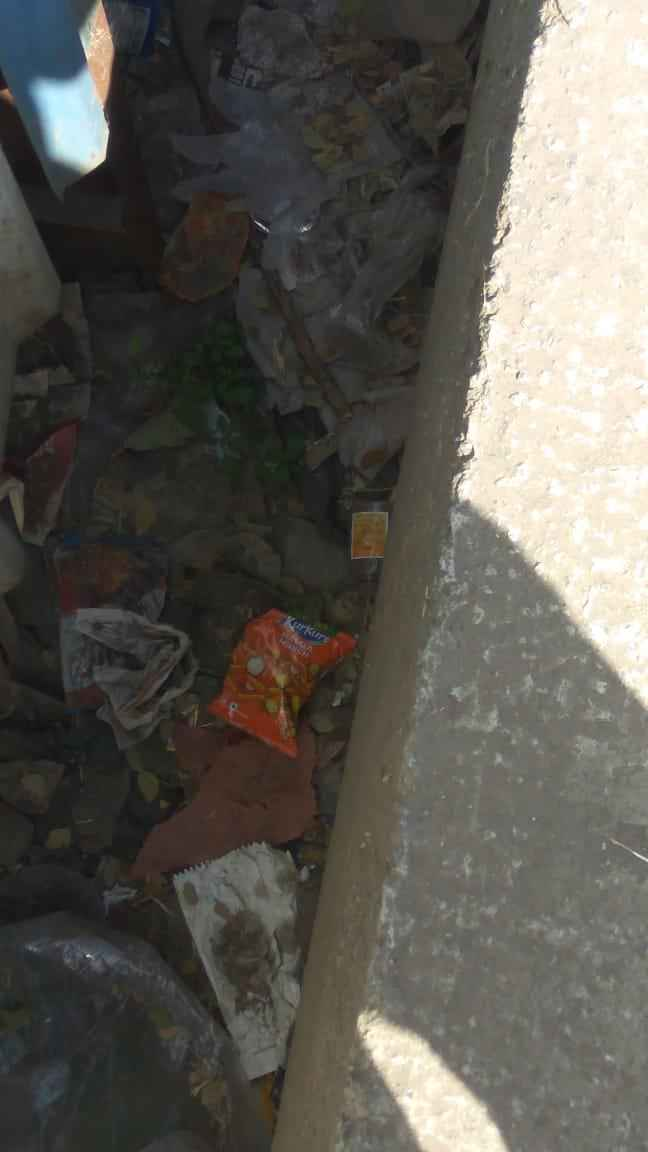kurkure: (279, 613, 329, 659)
